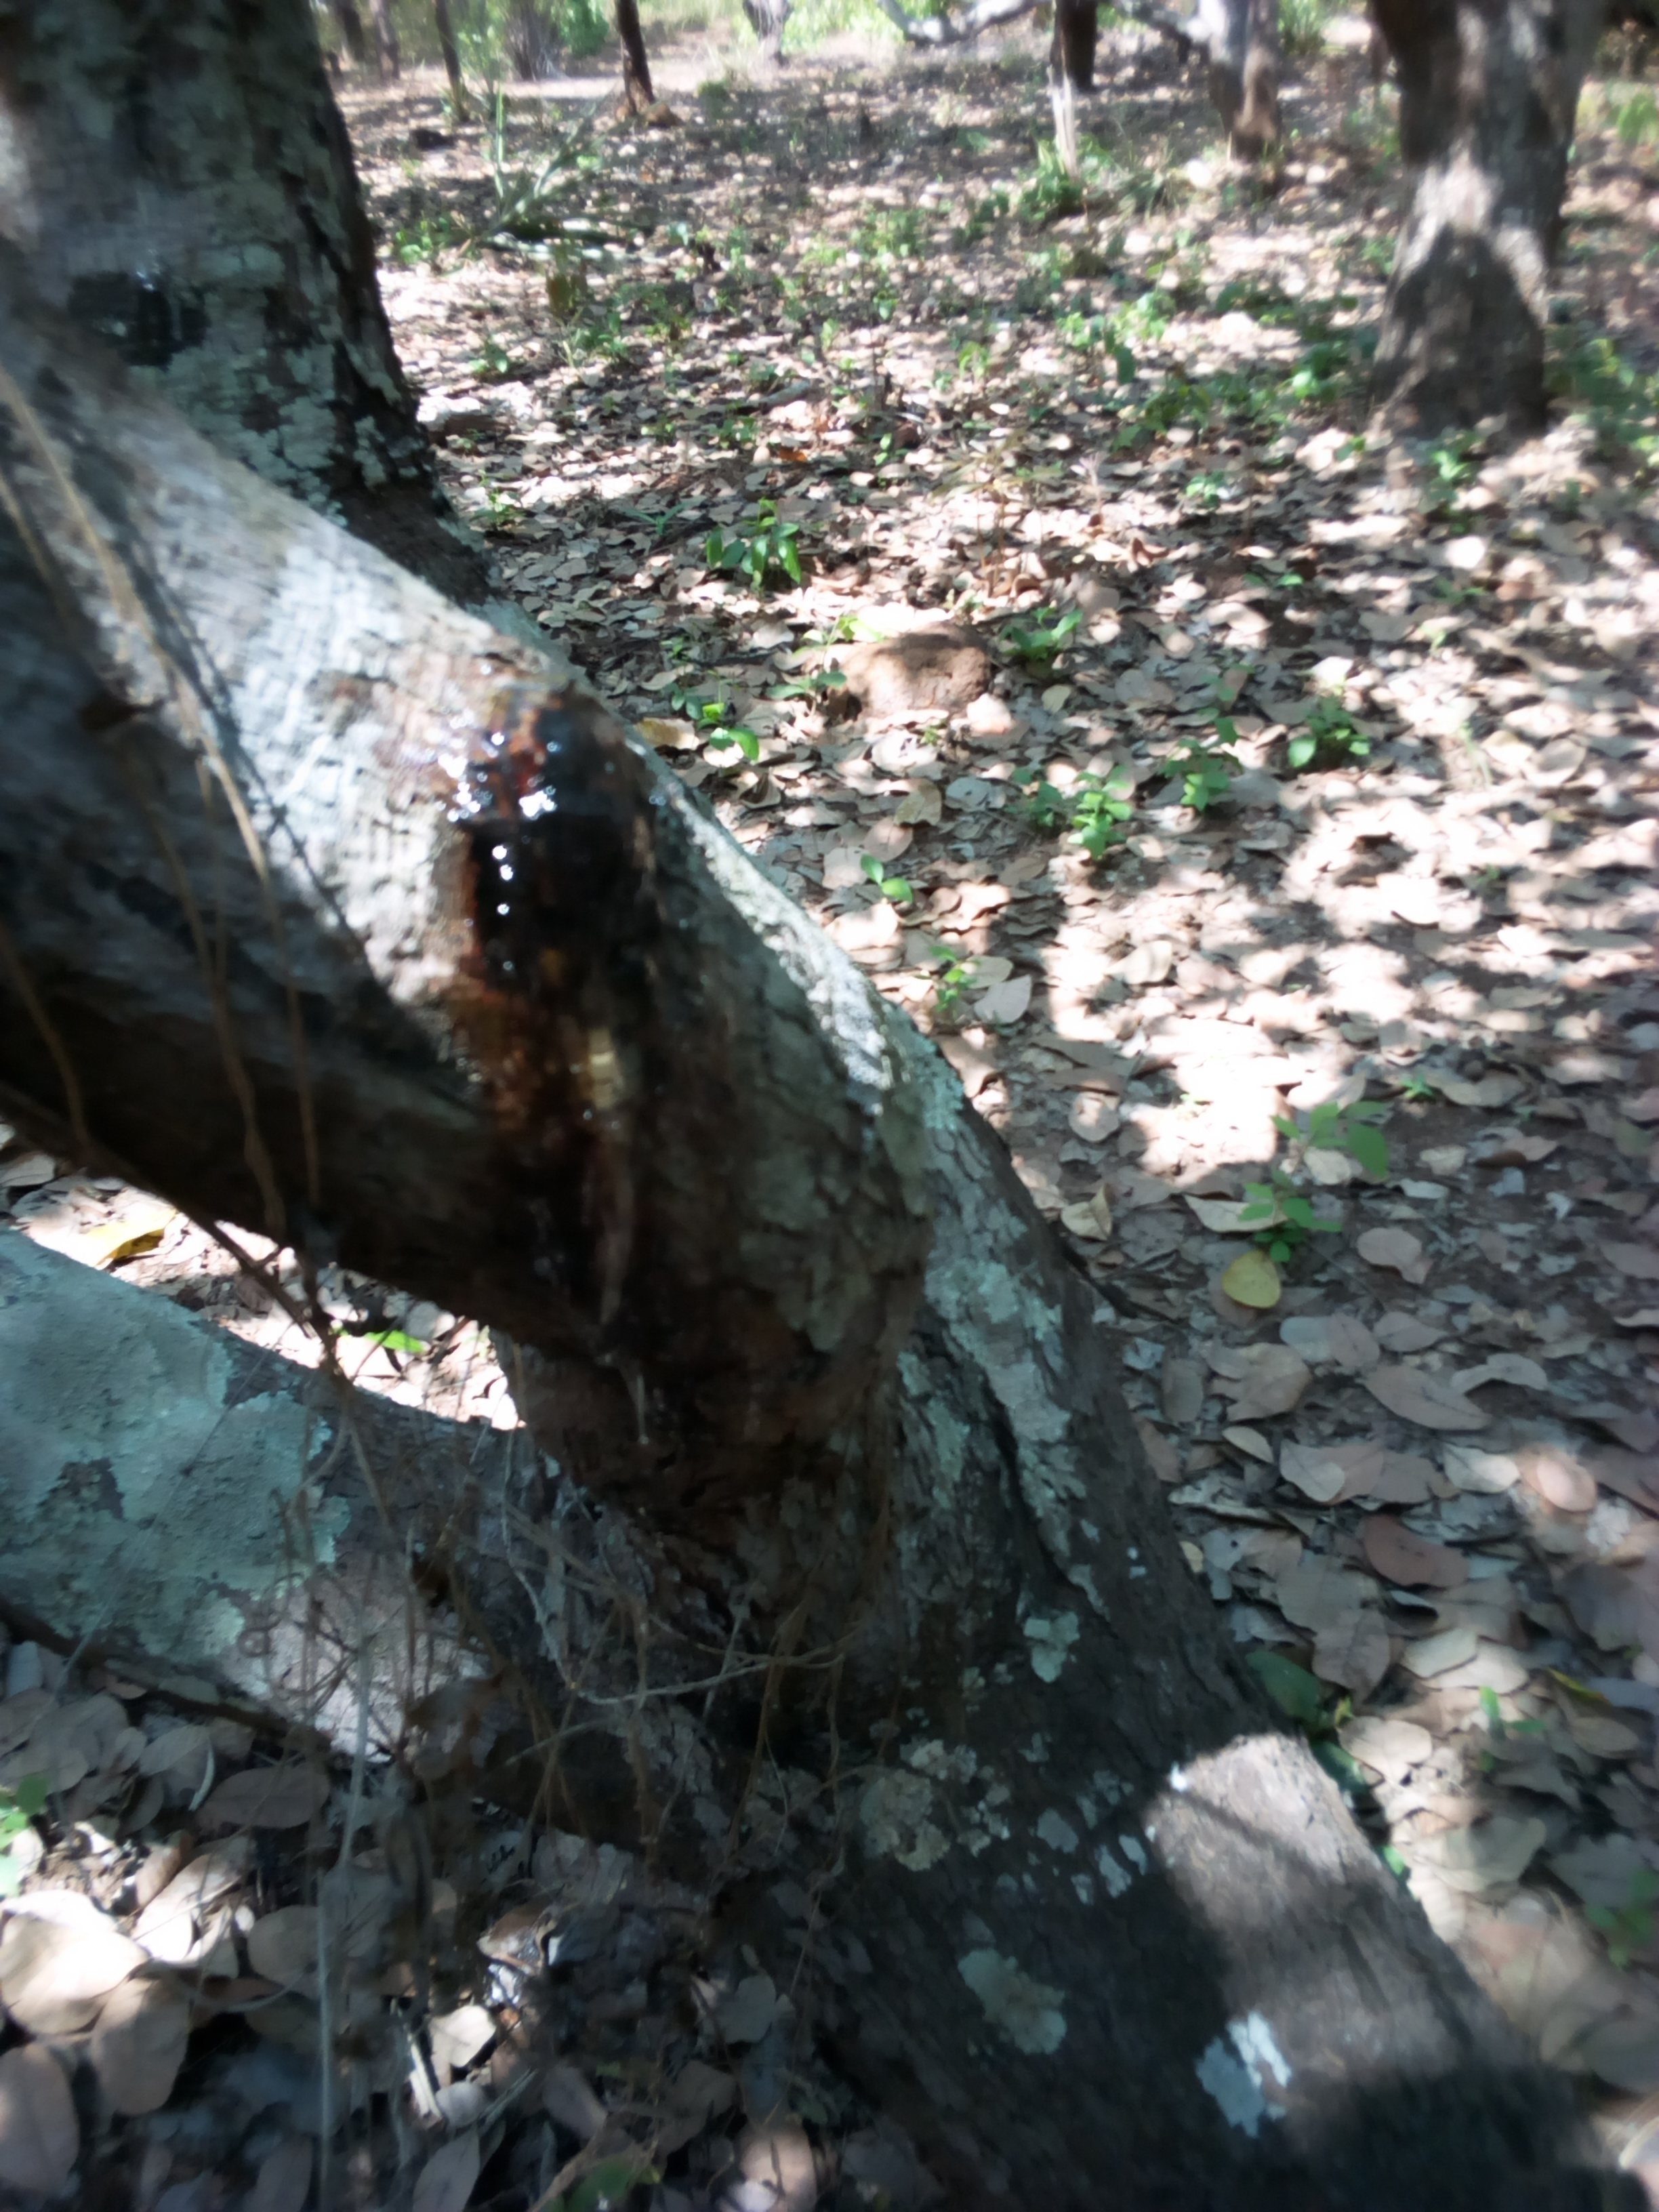Mecocorynus longiceps: (359, 669, 829, 1390)
